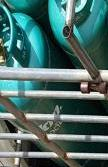cylinder: (1, 1, 108, 167)
